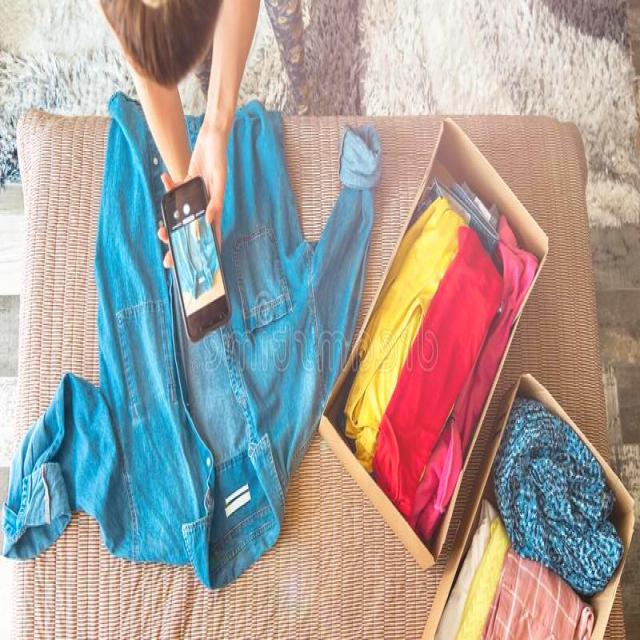clothes: (220, 112, 380, 557), (100, 102, 198, 595), (394, 215, 526, 486), (471, 449, 600, 640), (2, 372, 94, 592)
